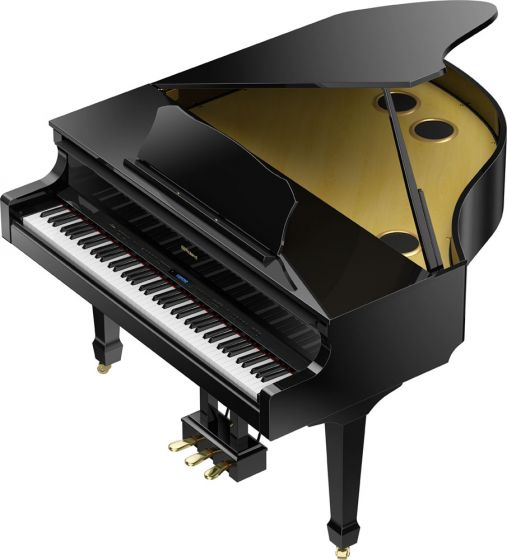GrandPiano: (28, 84, 493, 397)
